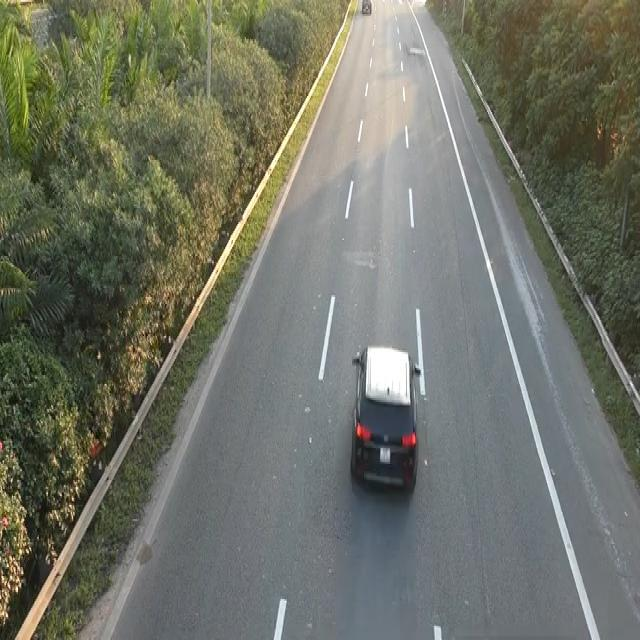car: (347, 340, 421, 494)
